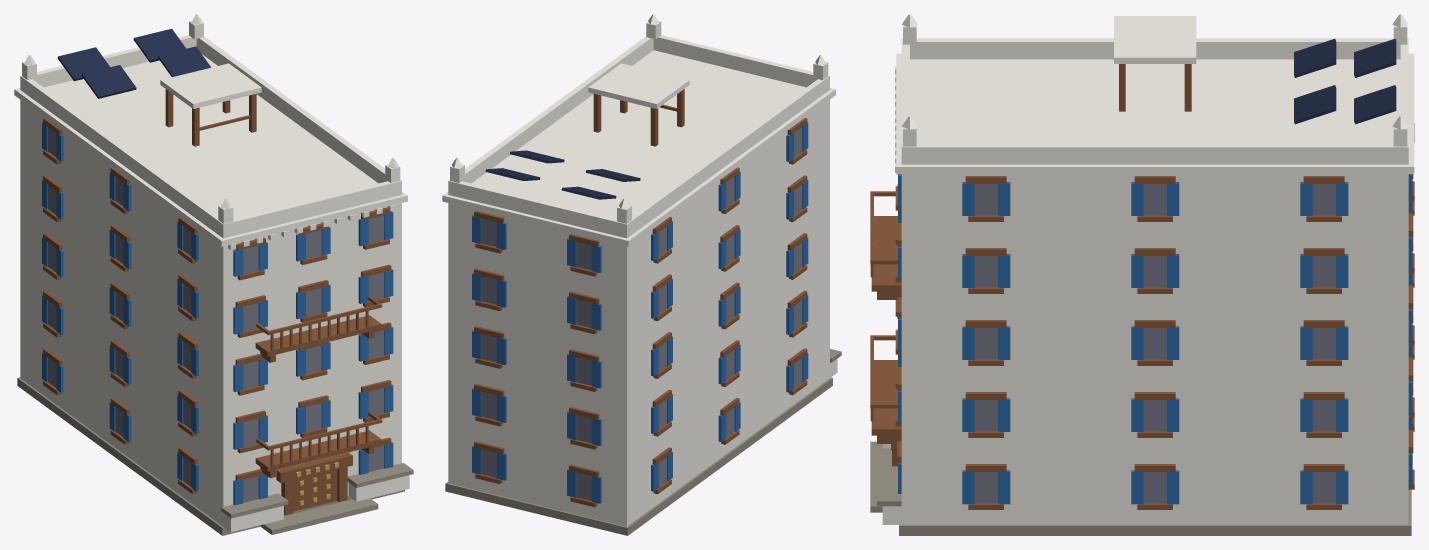
Rendered from house-1x2-5f-swahili-a-solar.glb.
3 views of the same model, side by side, from view 1: azimuth 30°, elevation 25°; view 2: azimuth 150°, elevation 25°; view 3: azimuth 270°, elevation 25° (orthographic). The views are drawn at different scales.
Visible parts, largest first — view 1: house-1x2-5f-swahili-a-solar; view 2: house-1x2-5f-swahili-a-solar; view 3: house-1x2-5f-swahili-a-solar.
Part boxes in pixels (left/top/right/bottom): house-1x2-5f-swahili-a-solar: left=14, top=14, right=413, bottom=535; house-1x2-5f-swahili-a-solar: left=442, top=14, right=841, bottom=535; house-1x2-5f-swahili-a-solar: left=870, top=14, right=1414, bottom=535.
Bounding box in the file's own units: 0.984 × 1.78 × 1.99.
1 material, 1 textured.
